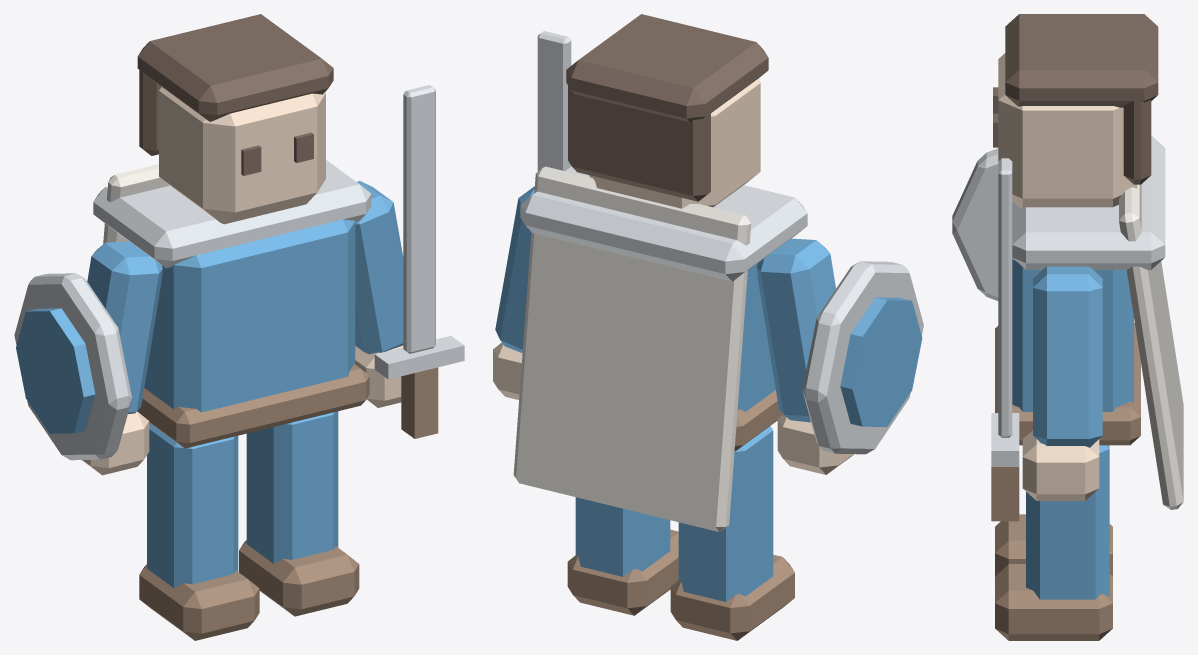
Rendered from PL_Player.fbx.
3 renders of one model, left to right at view 1: azimuth 30°, elevation 25°; view 2: azimuth 150°, elevation 25°; view 3: azimuth 270°, elevation 25°, orthographic. The views are drawn at different scales.
Parts seen in each view (by area): view 1: PL_Player; view 2: PL_Player; view 3: PL_Player.
Boxes of the visible parts, bbox=[...] form: PL_Player: bbox=[14, 14, 464, 640]; PL_Player: bbox=[493, 14, 923, 640]; PL_Player: bbox=[952, 14, 1183, 640].
Size of the model in its own units: 1.31 by 1.78 by 0.6654.
